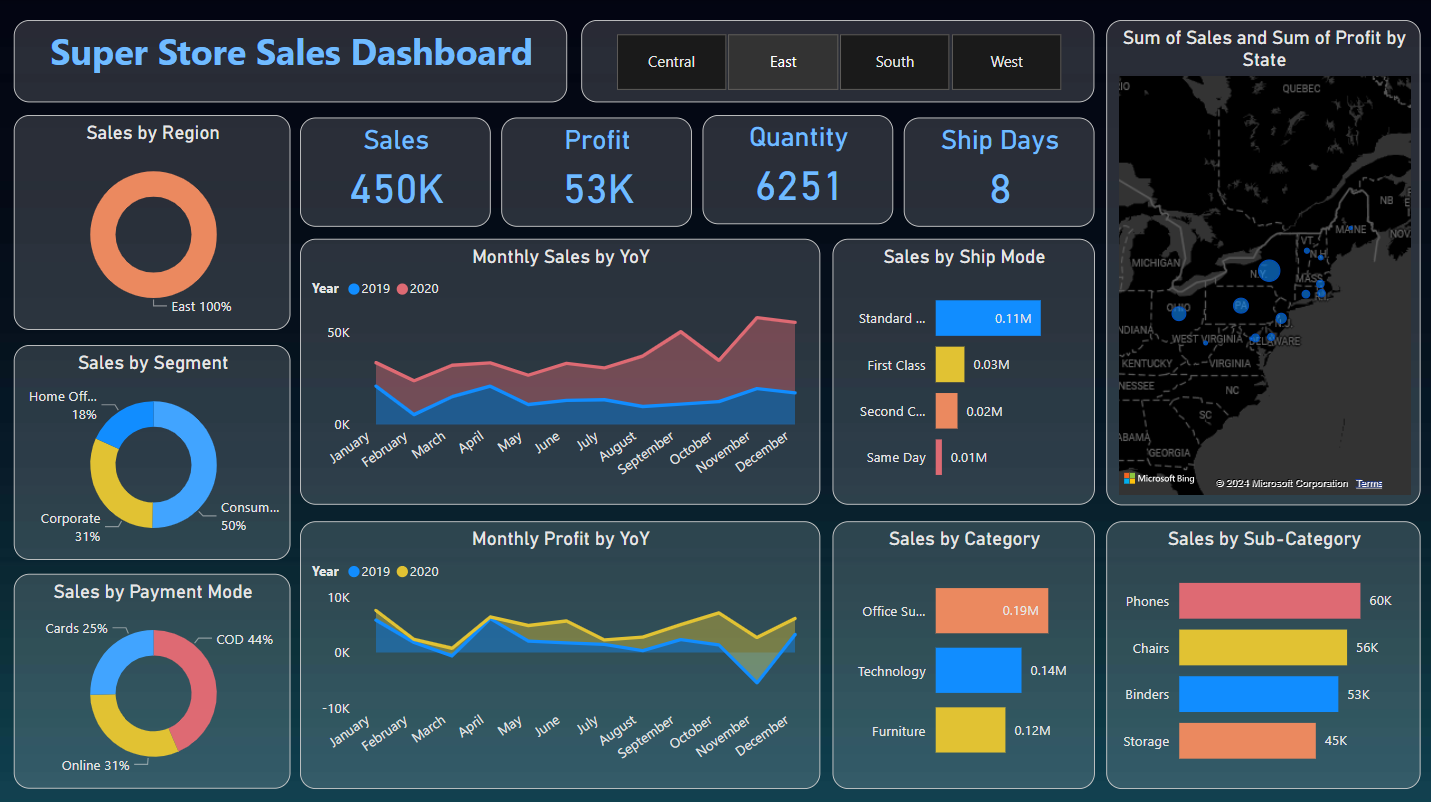

The page's visual inventory and layout, read from the dashboard file:
{"tool":"powerbi","page":{"name":"Page 1","canvas":[1280,720],"ordinal":0},"visuals":[{"type":"clusteredBarChart","title":"Sales by Category","fields":{"Category":["SuperStore_Sales_Dataset.Category"],"Y":["Sum(SuperStore_Sales_Dataset.Sales)"]},"box":[743.3,465.9,234.1,238.9],"z":0},{"type":"clusteredBarChart","title":"Sales by Sub-Category","fields":{"Category":["SuperStore_Sales_Dataset.Sub-Category"],"Y":["Sum(SuperStore_Sales_Dataset.Sales)"]},"box":[988.2,465.9,281,238.9],"z":1000},{"type":"clusteredBarChart","title":"Sales by Ship Mode","fields":{"Category":["SuperStore_Sales_Dataset.Ship Mode"],"Y":["Sum(SuperStore_Sales_Dataset.Sales)"]},"box":[743.3,213.7,234.1,237.7],"z":2000},{"type":"stackedAreaChart","title":"Monthly Sales by YoY","fields":{"Category":["SuperStore_Sales_Dataset.Order Date.Variation.Date Hierarchy.Month"],"Y":["Sum(SuperStore_Sales_Dataset.Sales)"],"Series":["SuperStore_Sales_Dataset.Order Date.Variation.Date Hierarchy.Year"]},"box":[267.8,213.7,464.7,237.7],"z":3000},{"type":"stackedAreaChart","title":"Monthly Profit by YoY","fields":{"Category":["SuperStore_Sales_Dataset.Order Date.Variation.Date Hierarchy.Month"],"Series":["SuperStore_Sales_Dataset.Order Date.Variation.Date Hierarchy.Year"],"Y":["Sum(SuperStore_Sales_Dataset.Profit)"]},"box":[267.8,465.9,464.7,238.9],"z":4000},{"type":"map","fields":{"Category":["SuperStore_Sales_Dataset.State"],"Size":["Sum(SuperStore_Sales_Dataset.Sales)"]},"box":[988.2,18,281,433.5],"z":5000},{"type":"donutChart","title":"Sales by Segment","fields":{"Category":["SuperStore_Sales_Dataset.Segment"],"Y":["Sum(SuperStore_Sales_Dataset.Sales)"]},"box":[12,308.6,247.4,192.1],"z":6000},{"type":"donutChart","title":"Sales by Payment Mode","fields":{"Category":["SuperStore_Sales_Dataset.Payment Mode"],"Y":["Sum(SuperStore_Sales_Dataset.Sales)"]},"box":[12,512.7,247.4,192.1],"z":7000},{"type":"slicer","fields":{"Values":["SuperStore_Sales_Dataset.Region"]},"box":[518.7,18,458.7,73.2],"z":8000},{"type":"textbox","box":[12,18,494.7,73.2],"z":9000},{"type":"card","title":"Sales","fields":{"Values":["Sum(SuperStore_Sales_Dataset.Sales)"]},"box":[267.8,104.5,170.5,97.3],"z":10000},{"type":"card","title":"Profit","fields":{"Values":["Sum(SuperStore_Sales_Dataset.Profit)"]},"box":[447.9,104.5,170.5,97.3],"z":11000},{"type":"card","title":"Quantity","fields":{"Values":["Sum(SuperStore_Sales_Dataset.Quantity)"]},"box":[628,103.3,170.5,97.3],"z":12000},{"type":"card","title":"Ship Days","fields":{"Values":["Avg(SuperStore_Sales_Dataset.Shipment Days)"]},"box":[806.9,104.5,170.5,97.3],"z":13000},{"type":"donutChart","title":"Sales by Region","fields":{"Y":["Sum(SuperStore_Sales_Dataset.Sales)"],"Category":["SuperStore_Sales_Dataset.Region"]},"box":[12,103.3,247.4,192.1],"z":14000}]}

Visuals, with their boxes in screenshot pixels (x1, y1, x2, y2), scaled from the page's 1280x720 canvas onto the 1431x802 screenshot:
"Sales by Category" clusteredBarChart: box(831, 519, 1093, 785)
"Sales by Sub-Category" clusteredBarChart: box(1105, 519, 1419, 785)
"Sales by Ship Mode" clusteredBarChart: box(831, 238, 1093, 503)
"Monthly Sales by YoY" stackedAreaChart: box(299, 238, 819, 503)
"Monthly Profit by YoY" stackedAreaChart: box(299, 519, 819, 785)
map - SuperStore_Sales_Dataset.State x Sum(SuperStore_Sales_Dataset.Sales): box(1105, 20, 1419, 503)
"Sales by Segment" donutChart: box(13, 344, 290, 558)
"Sales by Payment Mode" donutChart: box(13, 571, 290, 785)
slicer - SuperStore_Sales_Dataset.Region: box(580, 20, 1093, 102)
textbox: box(13, 20, 566, 102)
"Sales" card: box(299, 116, 490, 225)
"Profit" card: box(501, 116, 691, 225)
"Quantity" card: box(702, 115, 893, 223)
"Ship Days" card: box(902, 116, 1093, 225)
"Sales by Region" donutChart: box(13, 115, 290, 329)
